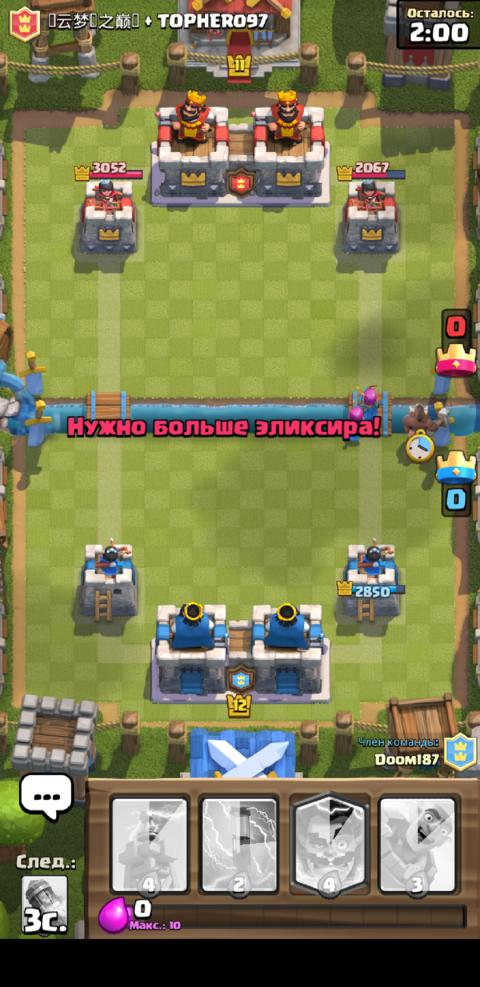ally_archer: (355, 382, 383, 418), (345, 400, 363, 446)
ally_hog_rider: (402, 402, 449, 442)
